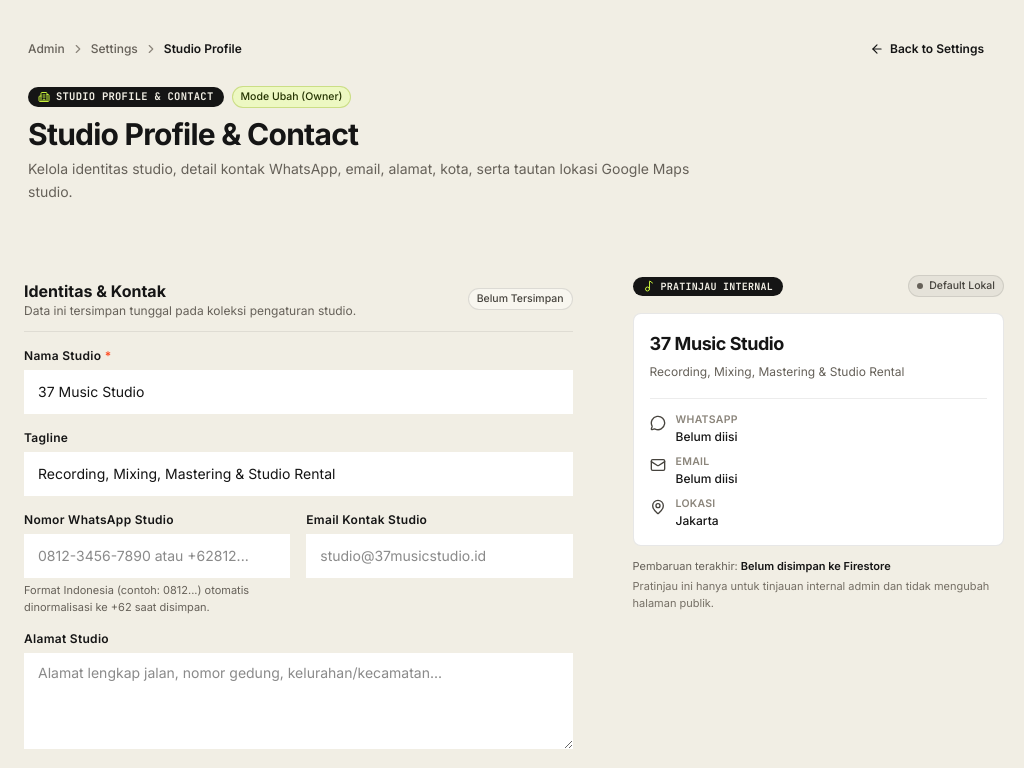
Scenario: Studio Profile & Contact UI (/admin/settings/studio-profile) › allows Owner to edit, updates live preview, saves to adapter, and resets dirty state
Replace the text in the field labelled "Nama Studio *" with "37 Studio Selatan" at (298, 392), box [24, 370, 573, 414]
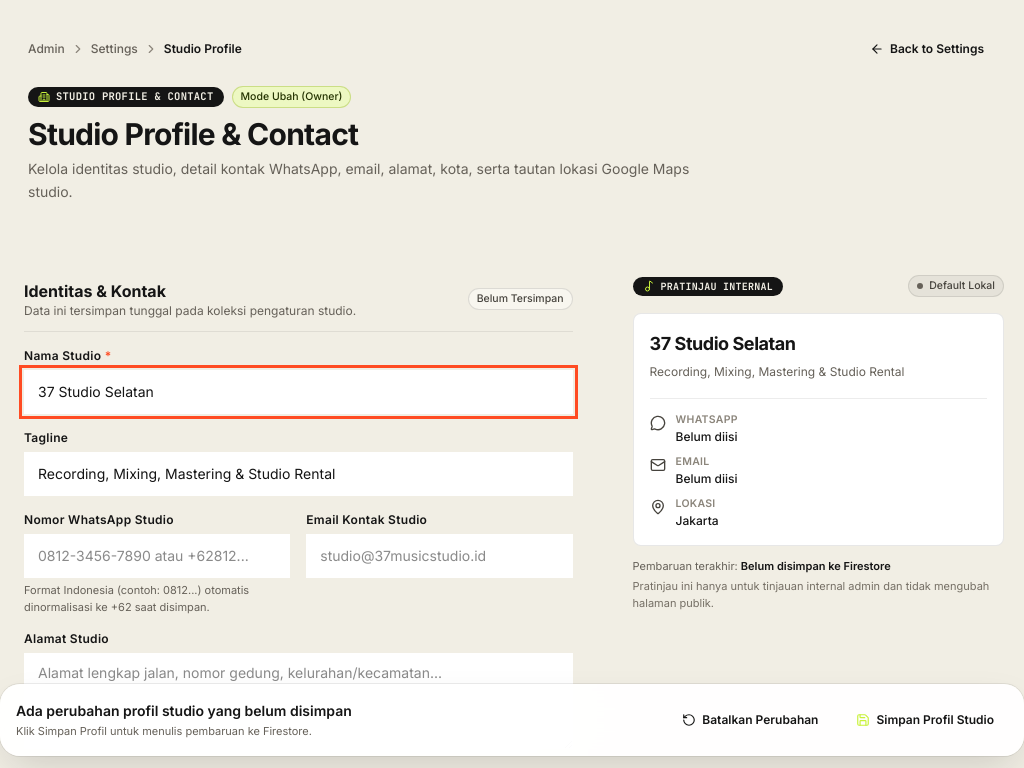
Type "081234567890" into the field labelled "Nomor WhatsApp Studio".
click(157, 556); type("081234567890")  # box [24, 534, 290, 578]
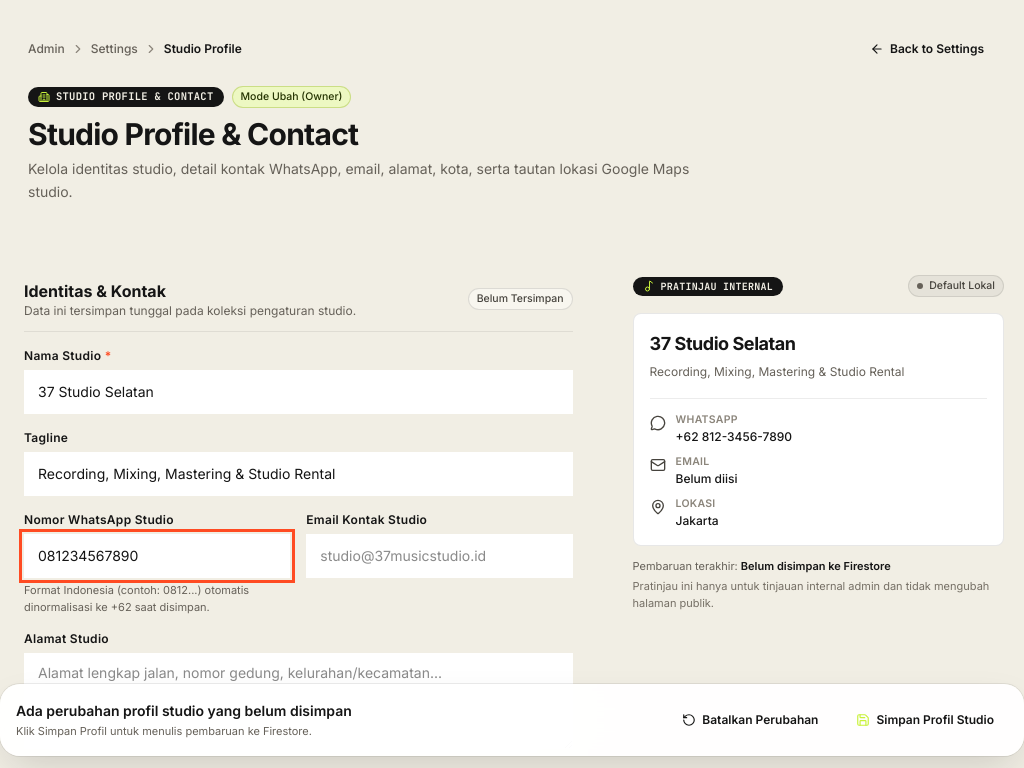
Expected: the button "Simpan Profil Studio" is enabled
Expected: the text "+62 812-3456-7890" is shown, [676, 428, 792, 444]
Click the button "Simpan Profil Studio".
click(925, 720)  # box [842, 700, 1008, 740]
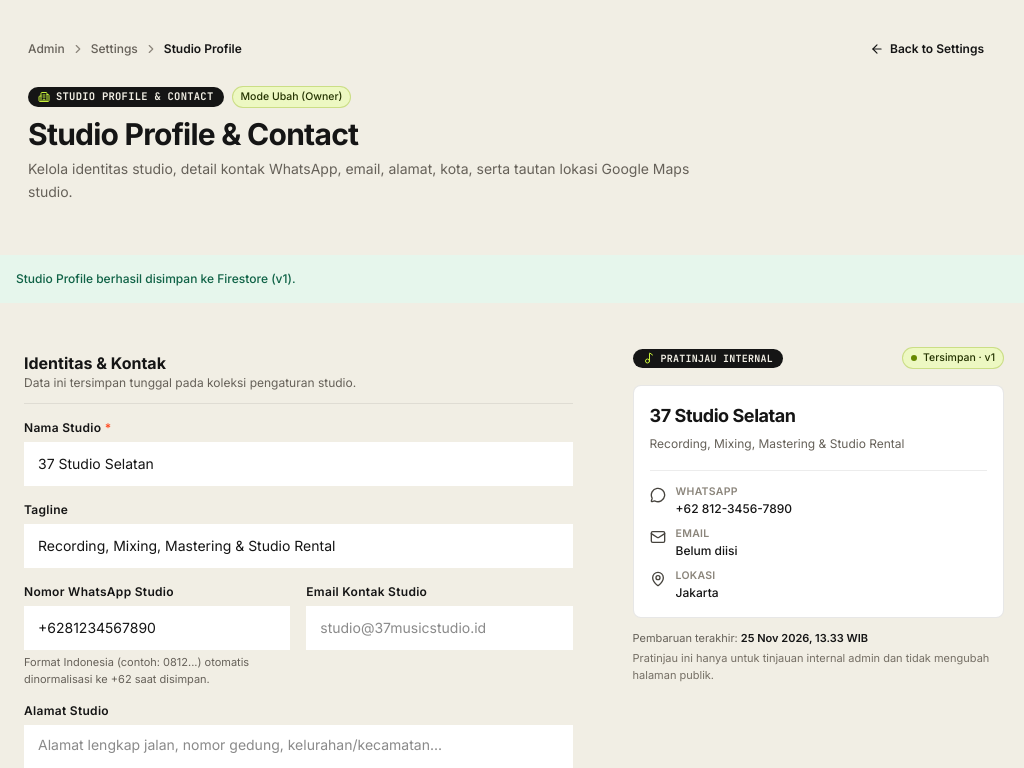
Expected: the heading "37 Studio Selatan" is shown, [650, 405, 796, 426]
Expected: the text "Tersimpan · v1" is shown, [923, 350, 995, 366]
